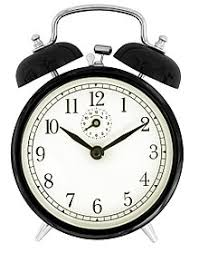alarm_clock: (14, 3, 183, 241)
